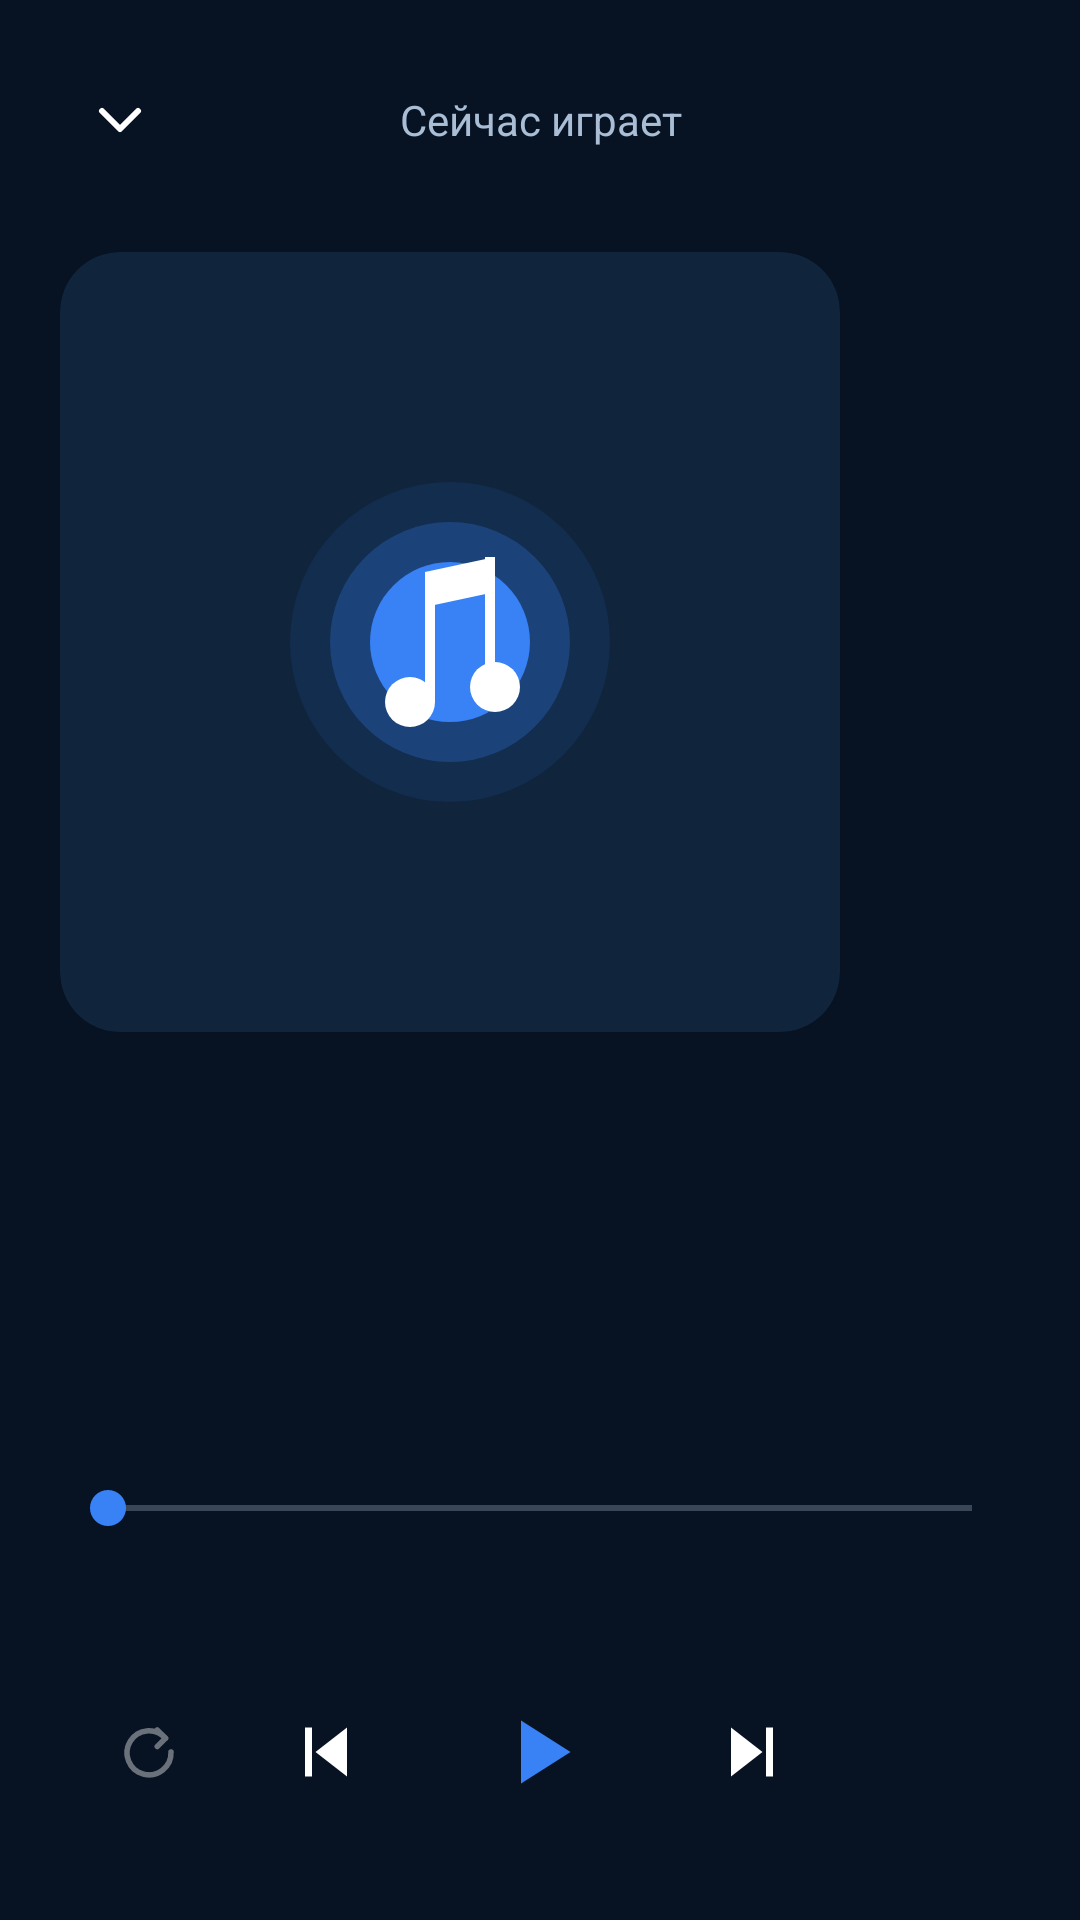

Icon bounding boxes for this 1080px x 1920px phone screenshot, format (x1=x1, y1=y1, x2=x2, y2=y2):
collapse: (x1=99, y1=108, x2=141, y2=132)
play: (x1=521, y1=1720, x2=570, y2=1784)
repeat: (x1=124, y1=1727, x2=174, y2=1778)
skip next: (x1=731, y1=1727, x2=773, y2=1777)
skip previous: (x1=305, y1=1727, x2=347, y2=1777)
